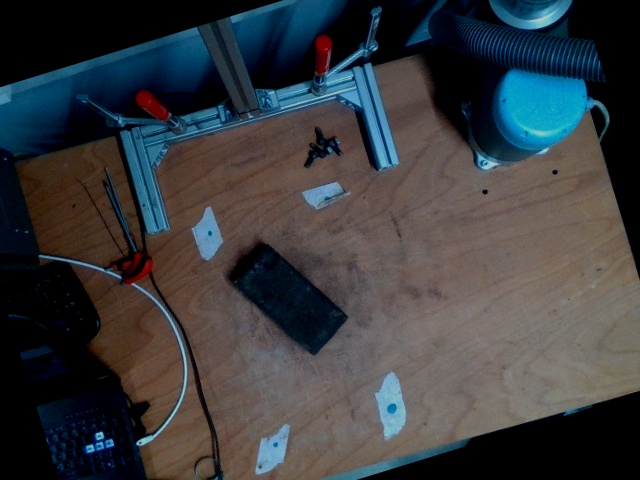brick: (232, 243, 347, 354)
